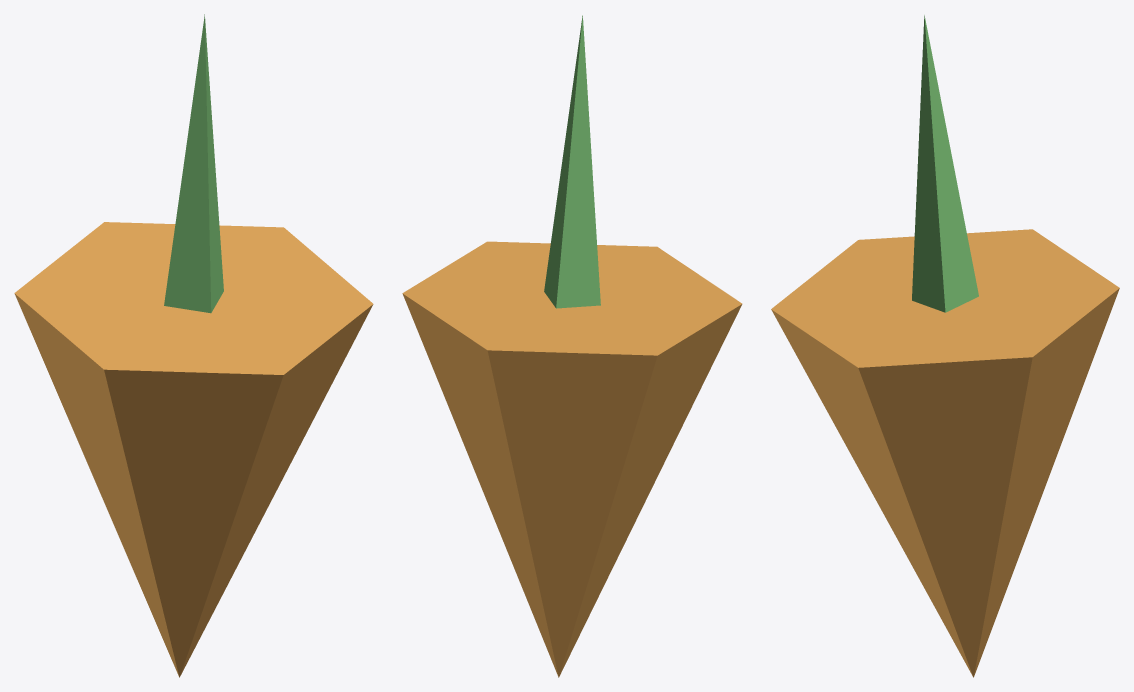
File: carrot.glb
The picture shows the model from 3 angles, left to right: view 1: azimuth 30°, elevation 25°; view 2: azimuth 150°, elevation 25°; view 3: azimuth 270°, elevation 25°; orthographic projection. The views are drawn at different scales.
Parts seen in each view (by area): view 1: Carrot.006; view 2: Carrot.006; view 3: Carrot.006.
Boxes of the visible parts, left/top/right/bottom form: Carrot.006: left=14, top=14, right=373, bottom=677; Carrot.006: left=402, top=15, right=742, bottom=677; Carrot.006: left=771, top=15, right=1119, bottom=677.
Size of the model in its own units: 0.0866 by 0.2095 by 0.0998.
